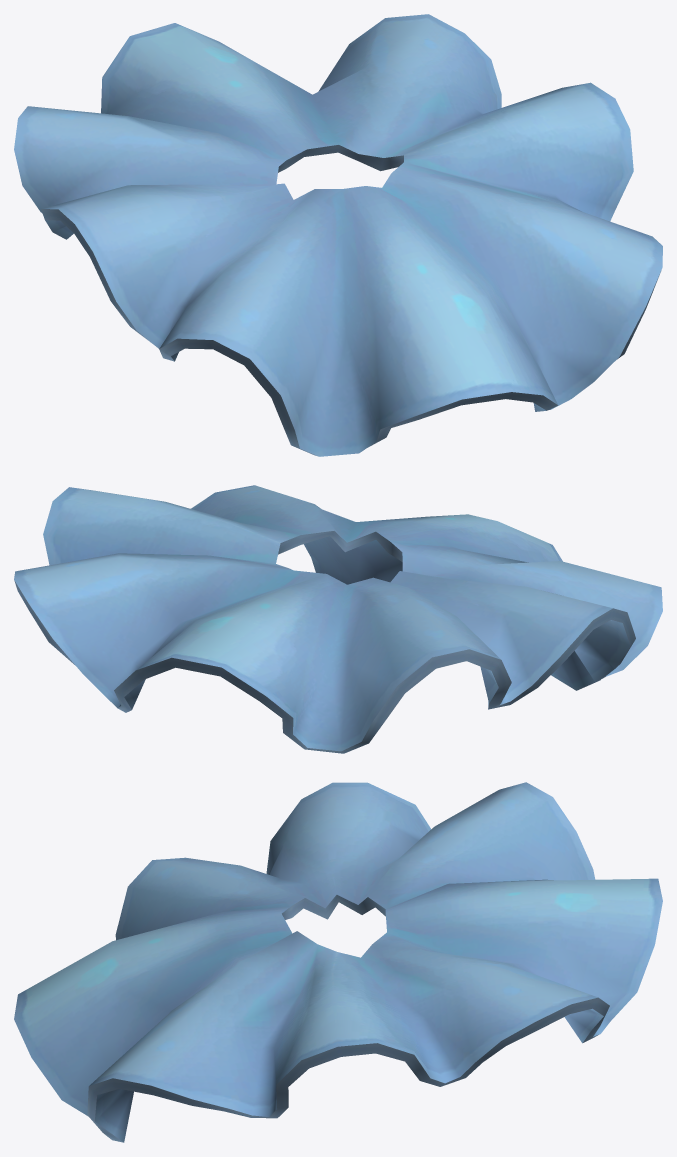
Rendered from Homeworld_Exterior_Common_Prop_Thing_SnowmanScarf_02_Vo.fbx.
The picture shows the model from 3 angles, top to bottom: view 1: azimuth 30°, elevation 25°; view 2: azimuth 150°, elevation 25°; view 3: azimuth 270°, elevation 25°; orthographic projection. The views are drawn at different scales.
Parts seen in each view (by area): view 1: Homeworld_Exterior_Common_Prop_Thing_SnowmanScarf_02_Vo; view 2: Homeworld_Exterior_Common_Prop_Thing_SnowmanScarf_02_Vo; view 3: Homeworld_Exterior_Common_Prop_Thing_SnowmanScarf_02_Vo.
Boxes of the visible parts, x1,y1,x2,y2 form: Homeworld_Exterior_Common_Prop_Thing_SnowmanScarf_02_Vo: (14,14,662,456); Homeworld_Exterior_Common_Prop_Thing_SnowmanScarf_02_Vo: (14,485,662,753); Homeworld_Exterior_Common_Prop_Thing_SnowmanScarf_02_Vo: (14,782,662,1142).
Bounding box in the file's own units: 1.19 × 0.4459 × 1.28.
